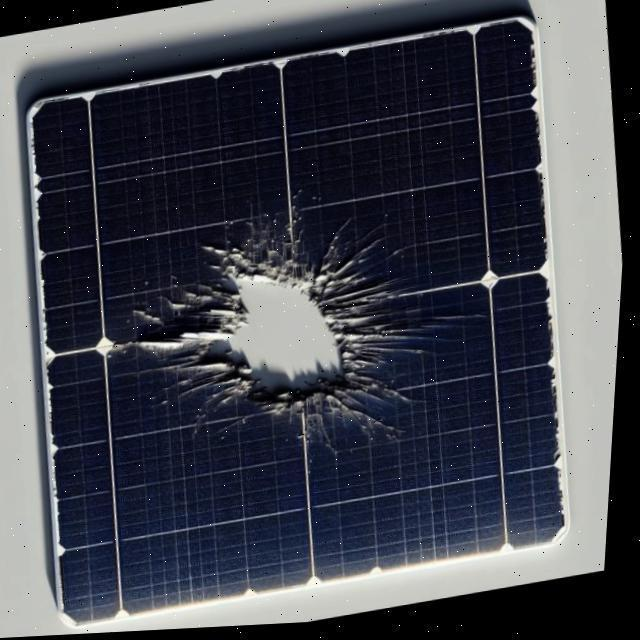Anomaly Solar Panel: (29, 19, 577, 631)
Structural Damage: (129, 194, 499, 466)
